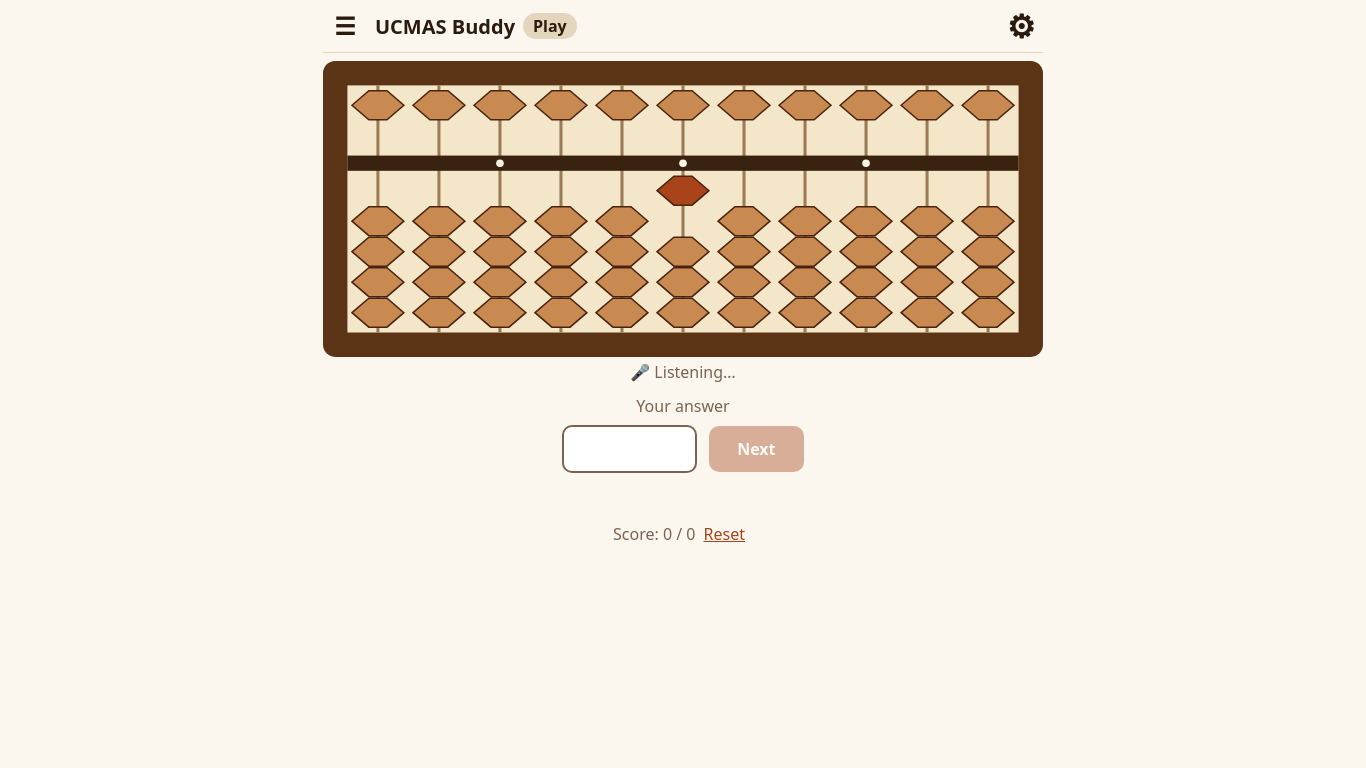
Test: <PlayPage> voice answers (epic 004) › pauses while the settings are open (AC3)
Click the button named "open settings". click: x=1021, y=26
box: left=999, top=4, right=1043, bottom=48
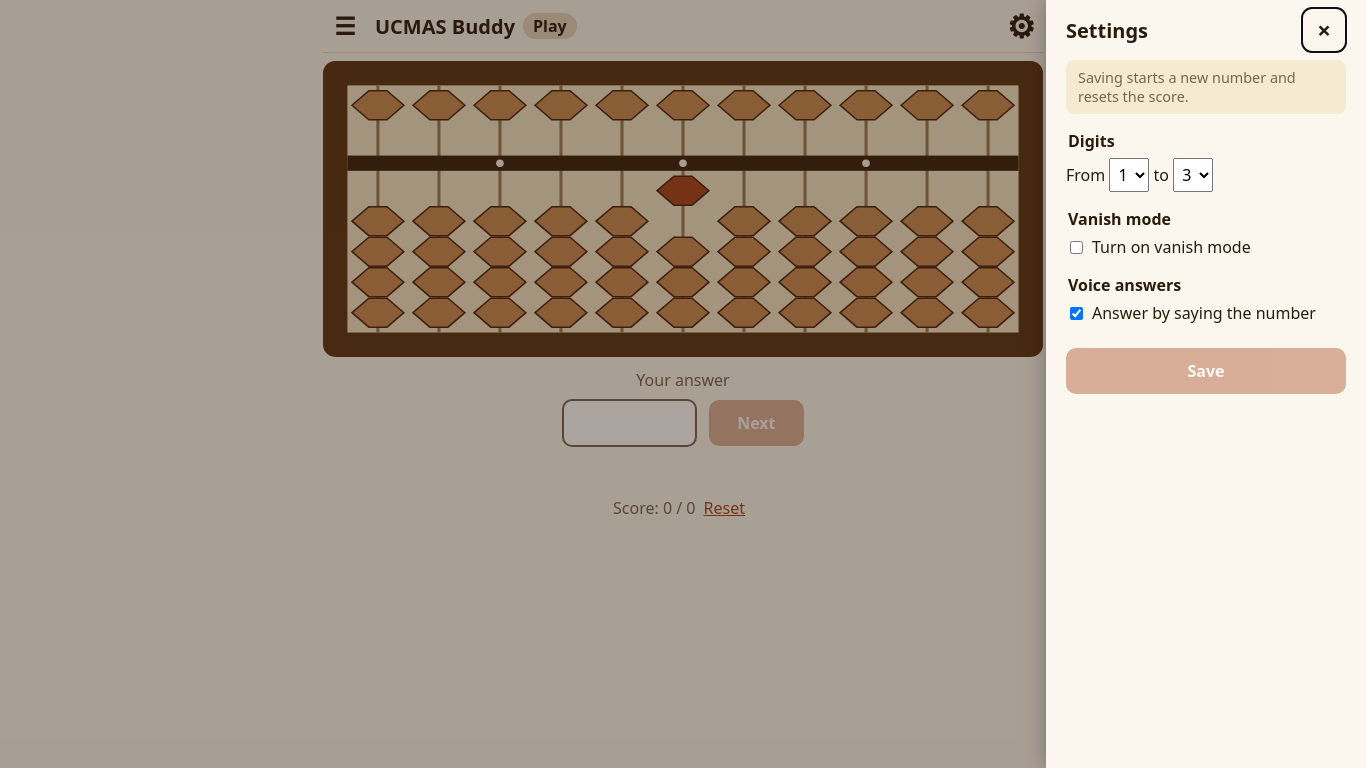
expect the text with test id "voice-status" is gone: met
Click the button named "close settings". click: x=1324, y=30
box: left=1302, top=8, right=1346, bottom=52
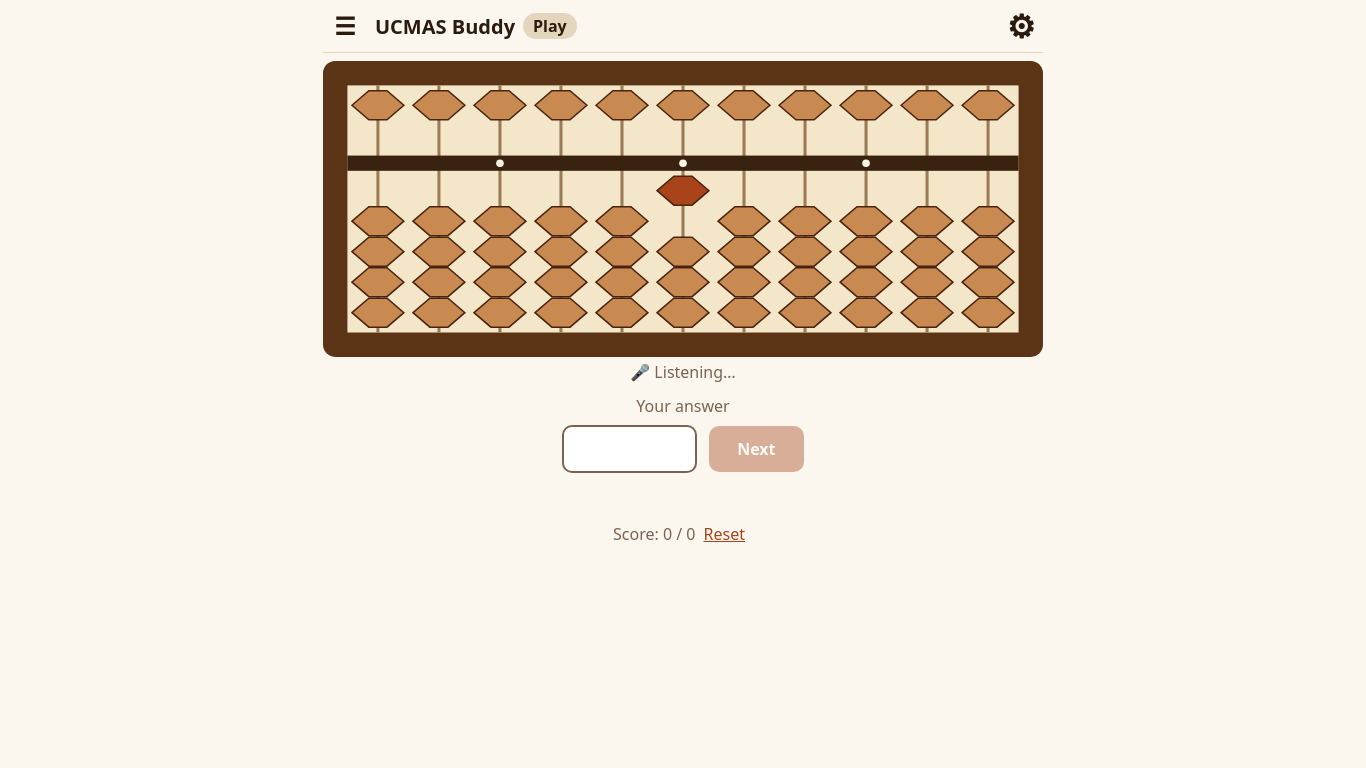
expect the dialog is gone: met
expect the text with test id "voice-status" shows "Listening": met, box left=630, top=361, right=736, bottom=383
